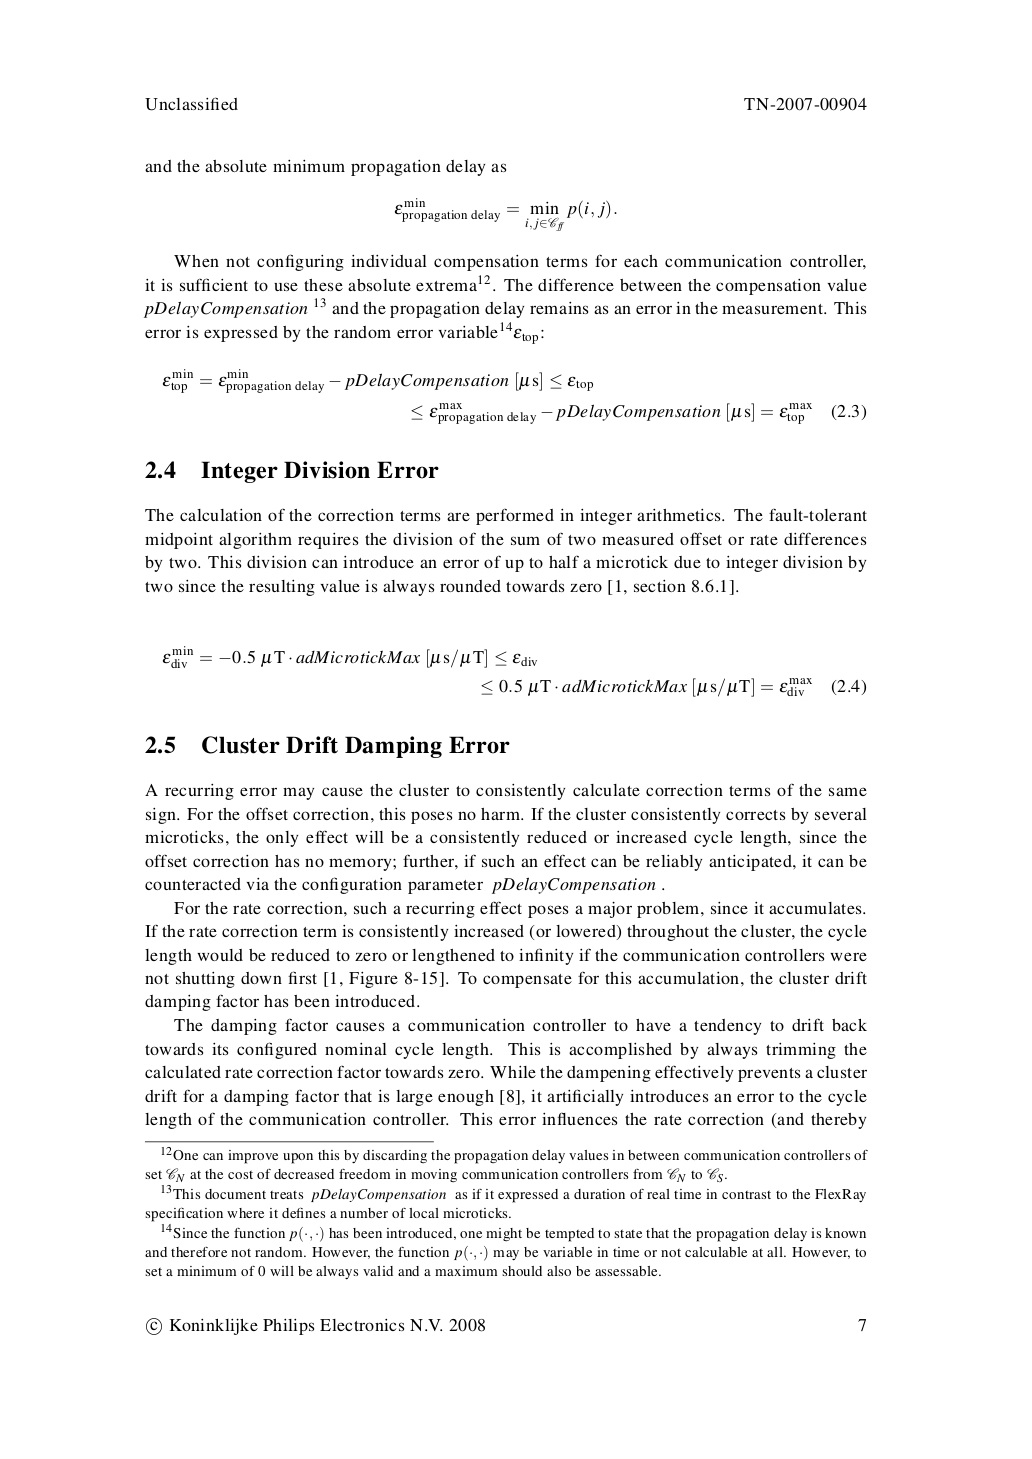formula: (162, 368, 593, 393), (411, 402, 866, 424), (162, 645, 536, 669), (481, 676, 866, 697), (394, 196, 617, 231)
